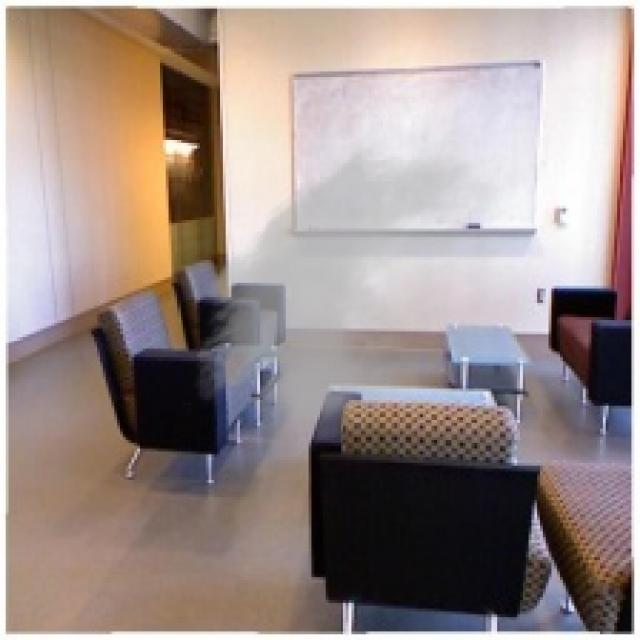smoke: (183, 106, 548, 457)
